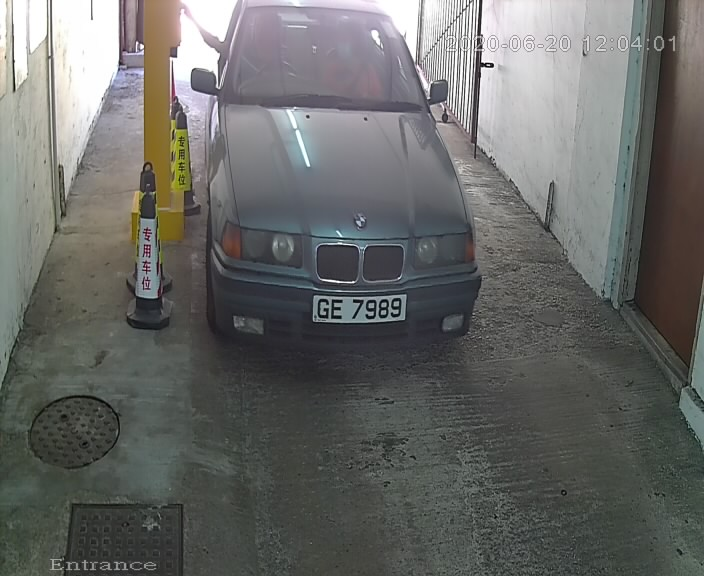privatecar: (178, 3, 517, 388)
